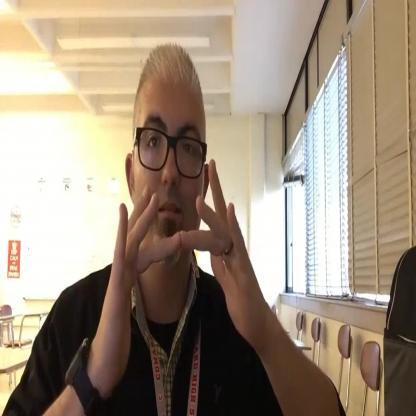Internet: (94, 170, 267, 403)
